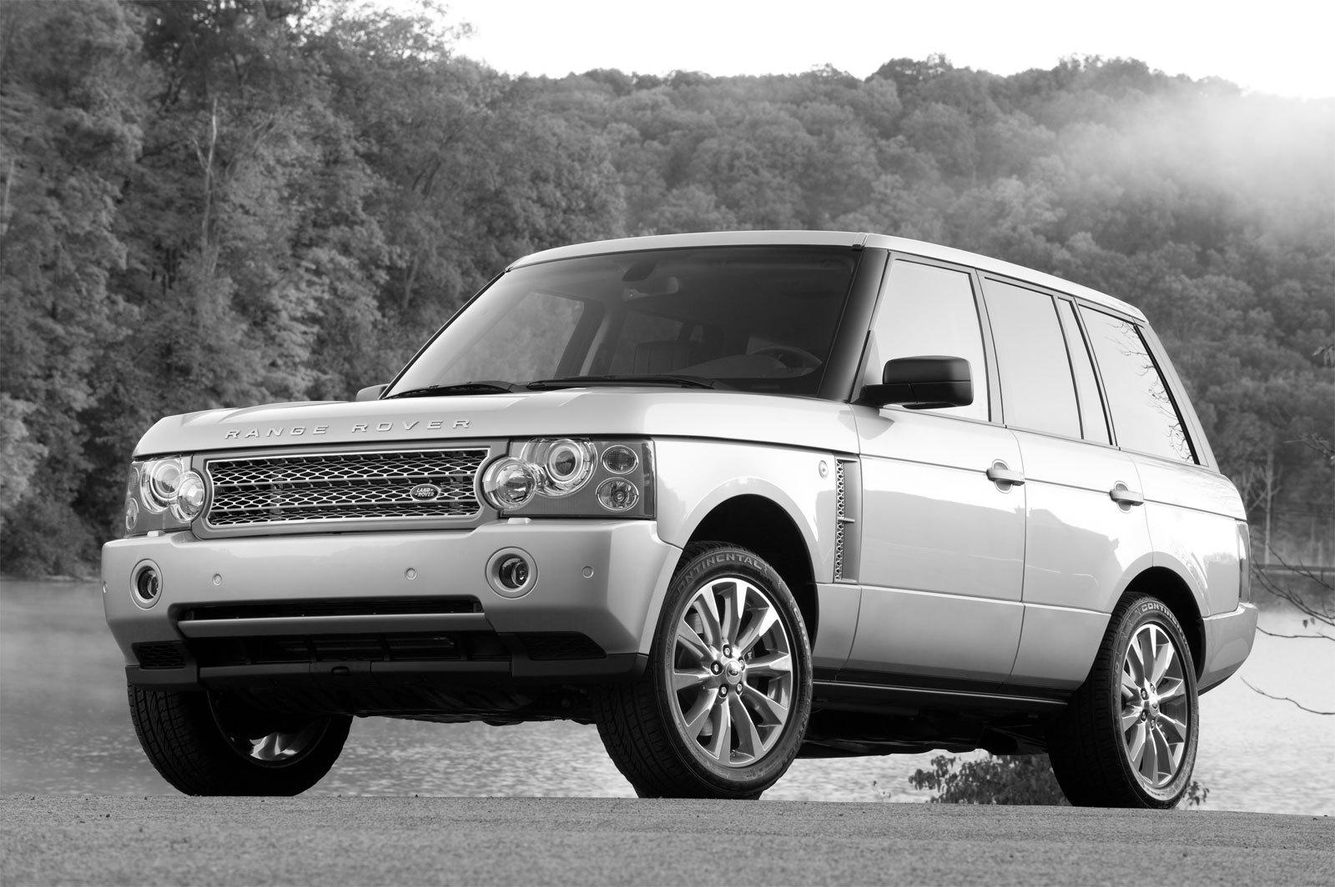car: (98, 225, 1257, 813)
